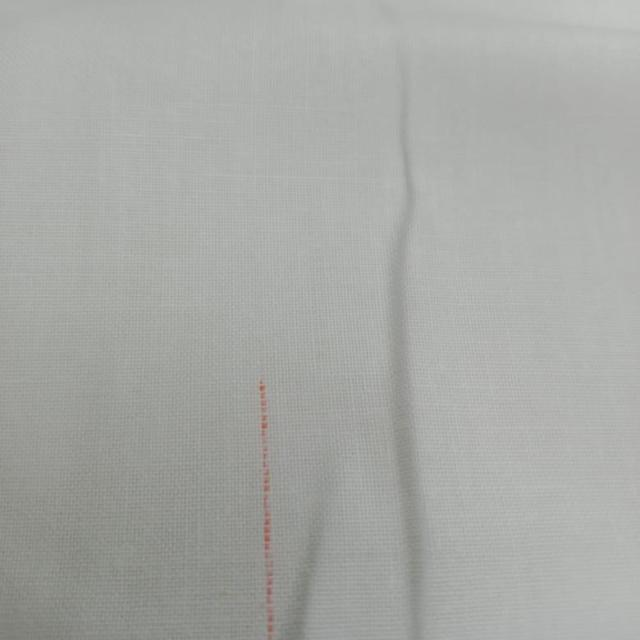contamination: (244, 363, 294, 640)
